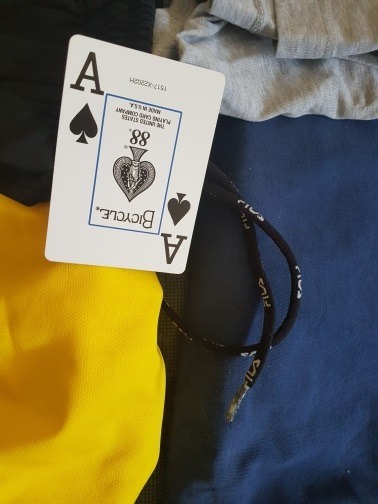ace: (44, 34, 226, 275)
